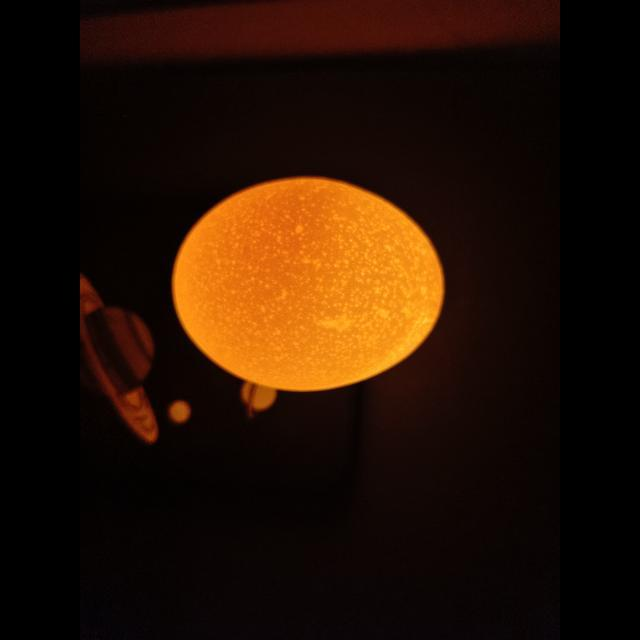AA - Premium: (173, 178, 444, 391), (319, 246, 321, 248)
